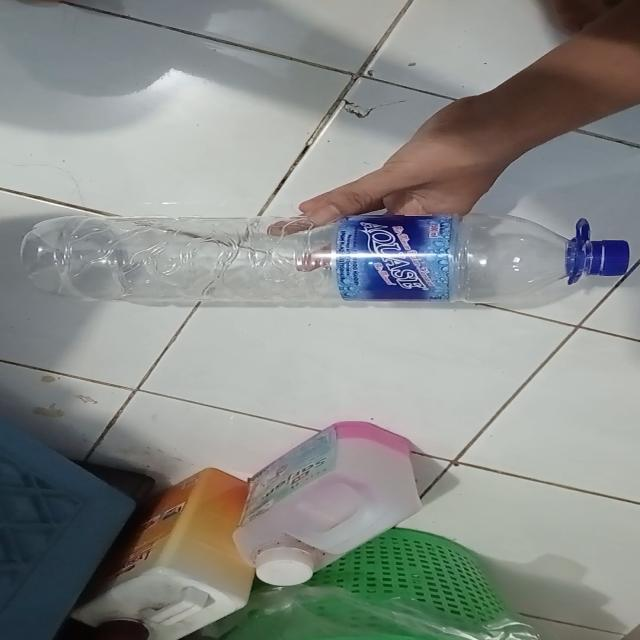Botol bekas: (20, 212, 631, 309)
